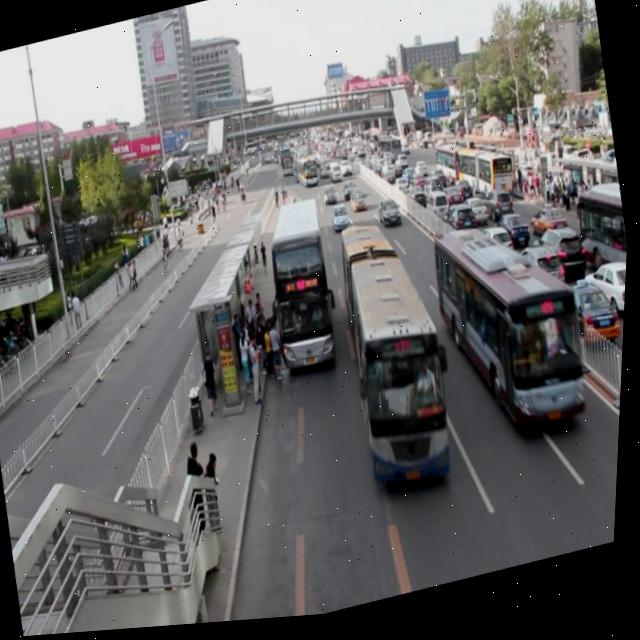car: (377, 198, 404, 233), (329, 204, 352, 235), (349, 192, 367, 215), (323, 185, 338, 209), (339, 161, 354, 183), (341, 182, 357, 202), (318, 162, 331, 182)
truck: (328, 162, 343, 187)
van: (427, 208, 597, 452), (330, 211, 466, 504), (261, 201, 344, 376), (293, 154, 321, 192)
